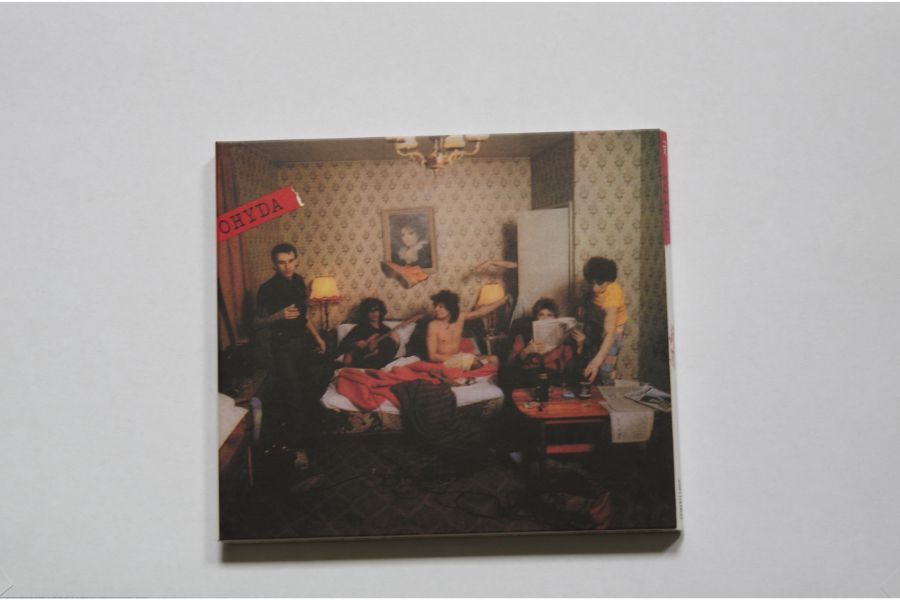album: (212, 140, 682, 535)
